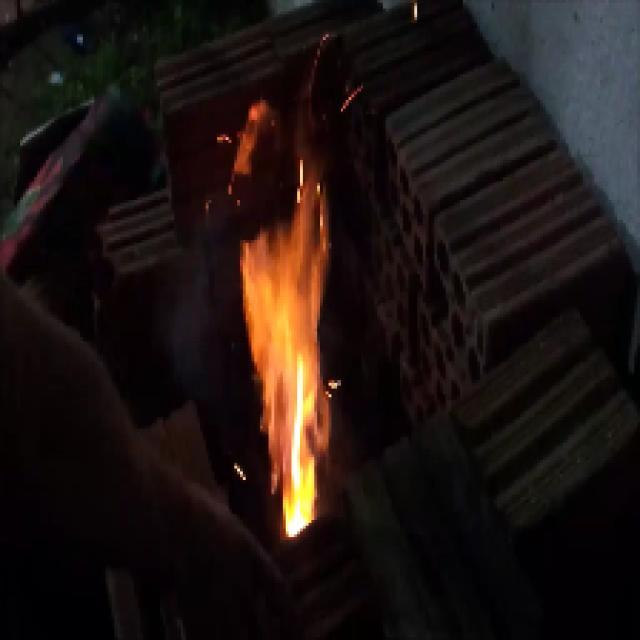Fire: (226, 102, 354, 532)
Smoke: (160, 202, 243, 412)
